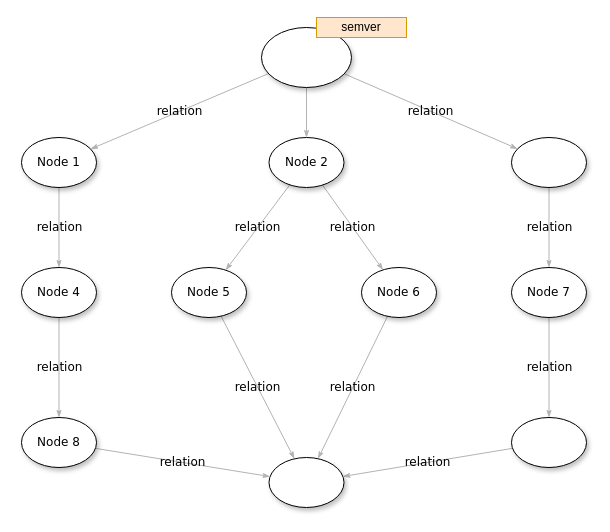
Image size: 610x532. Some labels were removed from this diagram. The shapes that lost their labels are listed below. From the top down, each one's centre as x and y in pixels, then its label:
point 307,58: _data
point 549,163: Node 3
point 549,443: Node 9
point 307,483: End node
